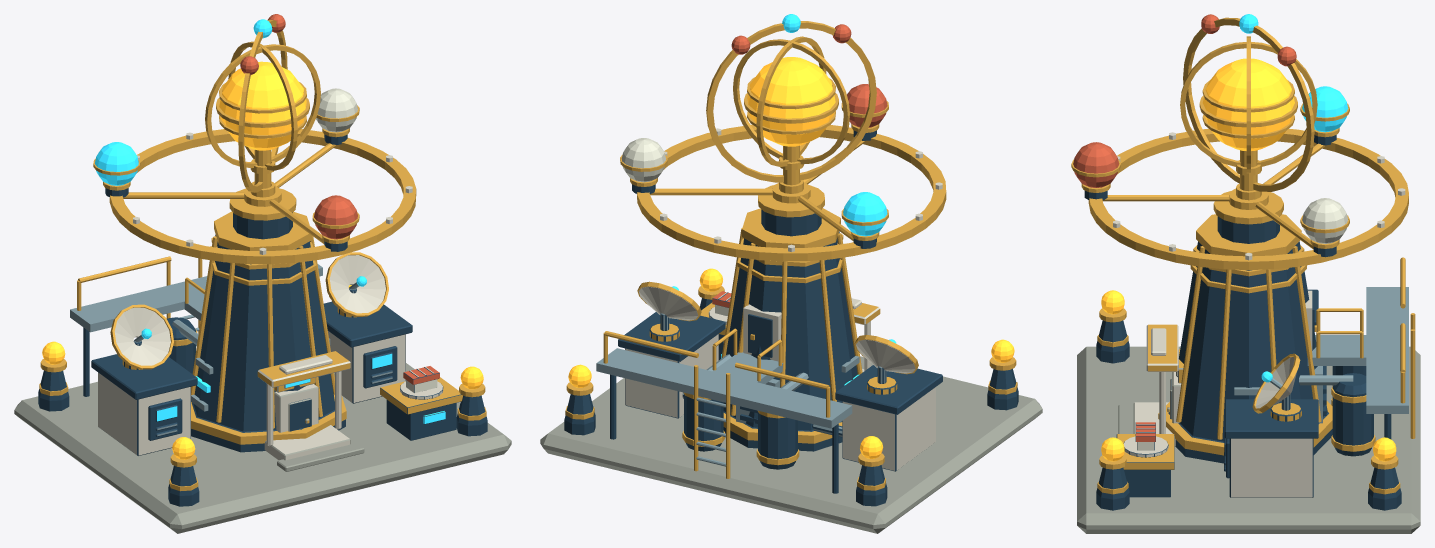
File: sync-lv4.glb
3 renders of one model, left to right at view 1: azimuth 30°, elevation 25°; view 2: azimuth 150°, elevation 25°; view 3: azimuth 270°, elevation 25°, orthographic. The views are drawn at different scales.
Visible parts, largest first — view 1: Sync_L4, Planetary_Rail.001, Celestial_Meridians, Concave_Dish.001, Concave_Dish.002, Golden_Crown_Halo; view 2: Sync_L4, Planetary_Rail.001, Golden_Crown_Halo, Celestial_Meridians, Concave_Dish.001, Concave_Dish.002; view 3: Sync_L4, Planetary_Rail.001, Golden_Crown_Halo, Celestial_Meridians, Concave_Dish.002.
Part boxes in pixels (bbox=[...]): Sync_L4: bbox=[14, 61, 511, 533]; Planetary_Rail.001: bbox=[93, 88, 416, 264]; Celestial_Meridians: bbox=[205, 41, 320, 174]; Concave_Dish.001: bbox=[110, 304, 173, 369]; Concave_Dish.002: bbox=[325, 252, 388, 316]; Golden_Crown_Halo: bbox=[238, 14, 287, 197]; Sync_L4: bbox=[540, 57, 1042, 533]; Planetary_Rail.001: bbox=[620, 84, 946, 261]; Golden_Crown_Halo: bbox=[706, 14, 876, 193]; Celestial_Meridians: bbox=[733, 36, 849, 170]; Concave_Dish.001: bbox=[854, 334, 918, 374]; Concave_Dish.002: bbox=[637, 281, 701, 321]; Sync_L4: bbox=[1077, 58, 1420, 533]; Planetary_Rail.001: bbox=[1071, 86, 1408, 269]; Golden_Crown_Halo: bbox=[1183, 14, 1314, 200]; Celestial_Meridians: bbox=[1180, 36, 1317, 175]; Concave_Dish.002: bbox=[1252, 353, 1300, 413].
Size of the model in its own units: 5.4 by 6.3 by 4.58.
